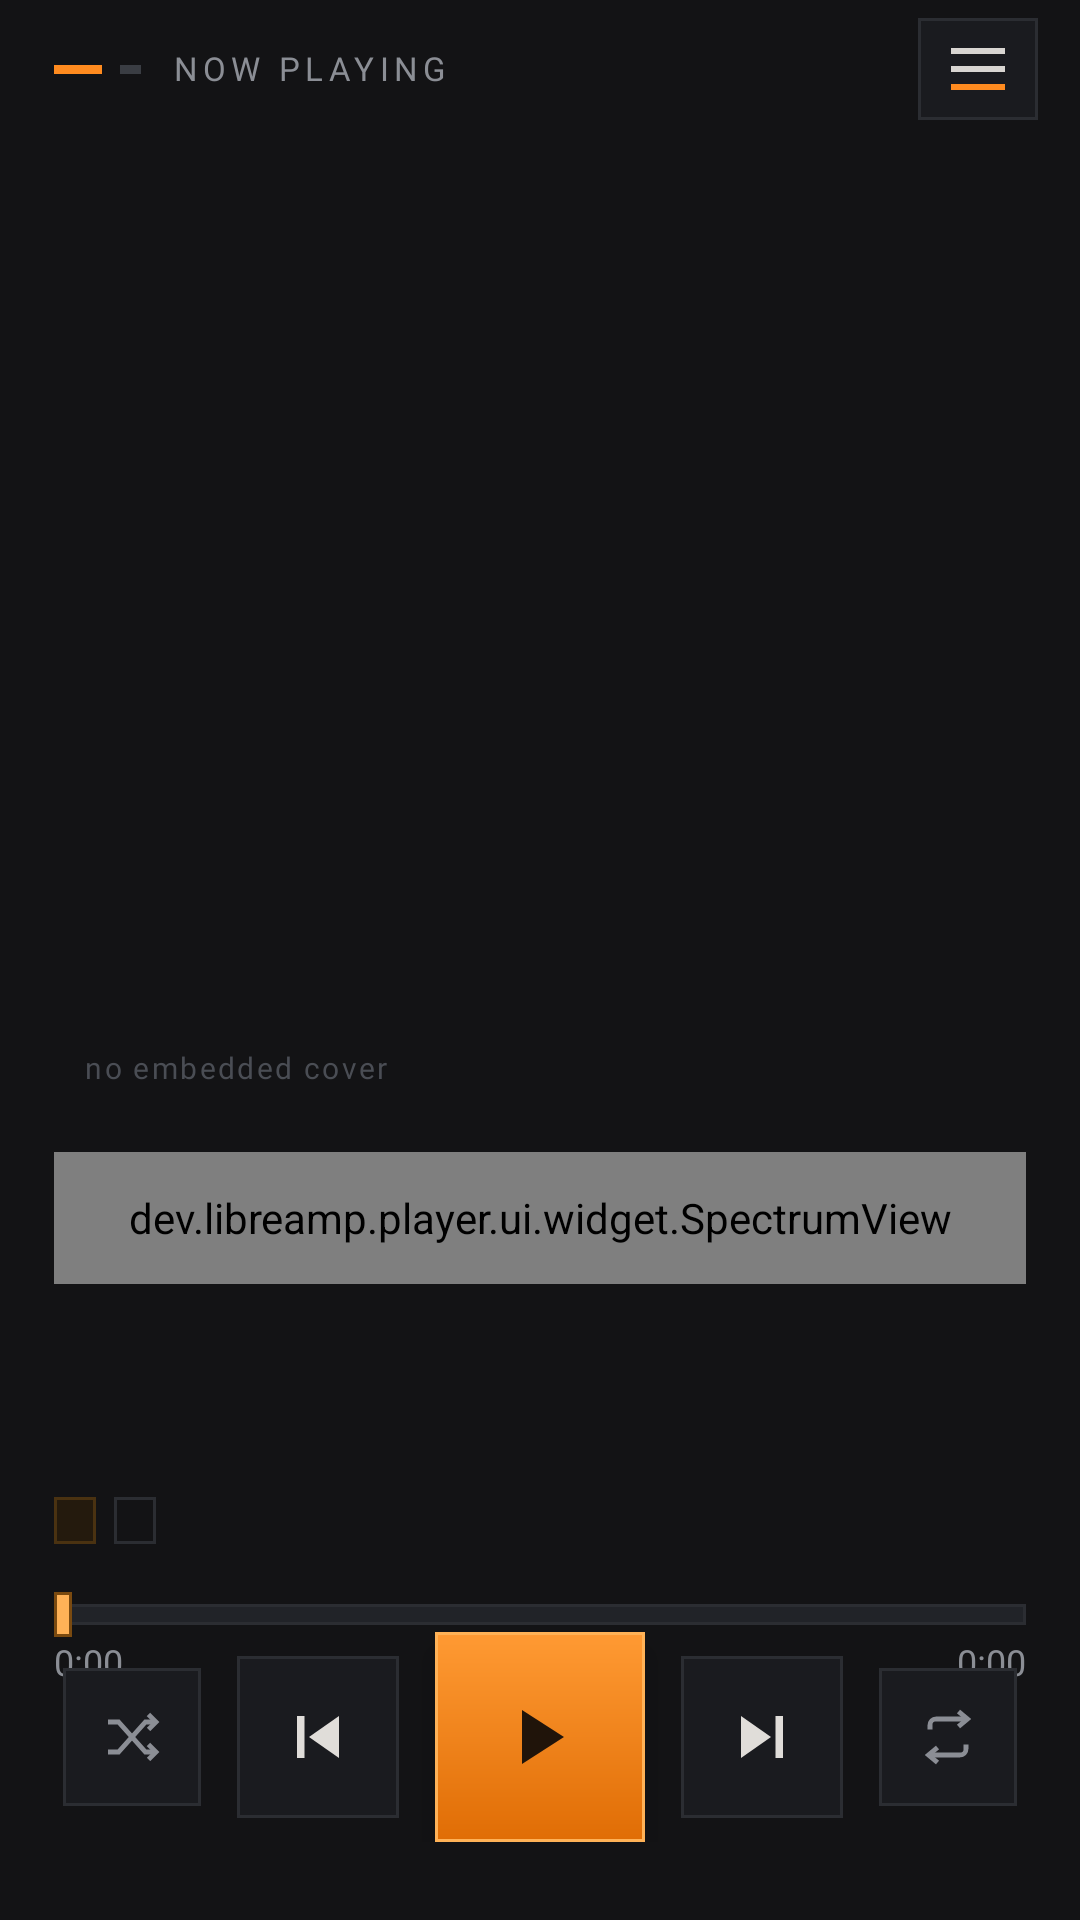

Icon bounding boxes for this 1080x1920 phone screenshot, format (x1, y1, x2, y2):
Next track: (681, 1656, 843, 1818)
Play: (435, 1632, 645, 1842)
Previous track: (237, 1656, 399, 1818)
Repeat: (879, 1668, 1017, 1806)
Shuffle: (63, 1668, 201, 1806)
